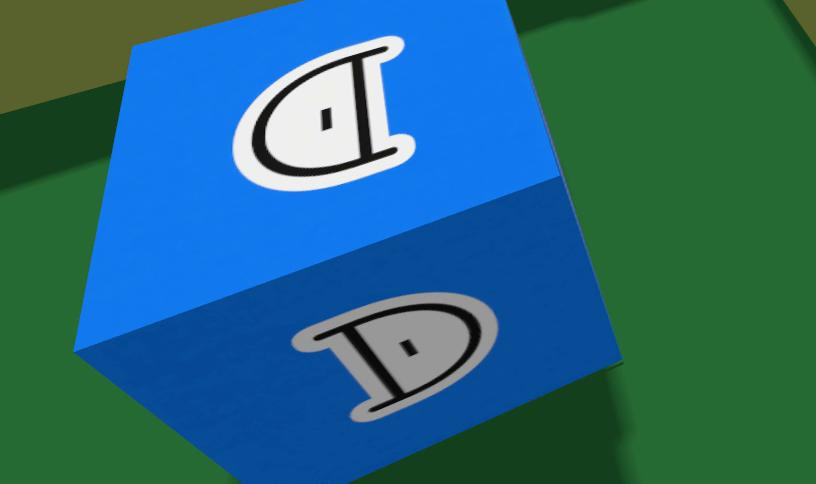KFS_REAL: (74, 0, 620, 483), (232, 35, 416, 191), (233, 36, 416, 191), (291, 292, 498, 422), (291, 293, 497, 422)
